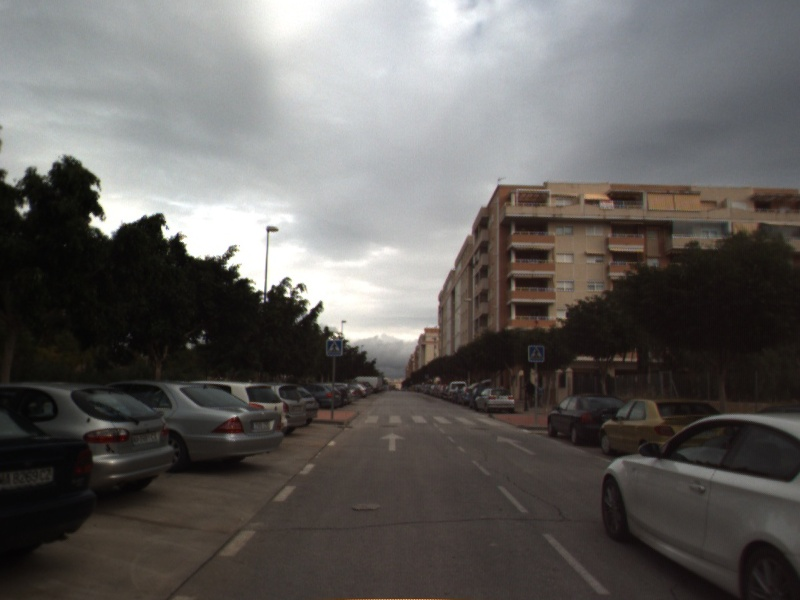STRAIGHT: (494, 434, 540, 457), (378, 430, 408, 453)
